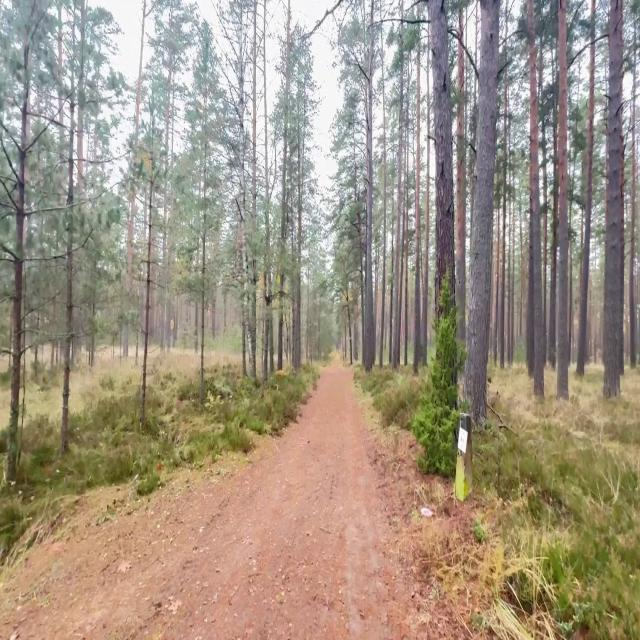trees: (412, 0, 464, 476), (0, 5, 41, 481), (464, 0, 499, 424), (221, 0, 255, 378), (427, 0, 455, 316), (603, 0, 623, 398), (124, 0, 146, 356), (577, 0, 595, 376), (527, 0, 544, 396), (361, 0, 375, 371), (557, 0, 569, 399), (61, 98, 74, 452), (278, 0, 290, 369), (263, 0, 274, 373), (414, 35, 425, 373), (141, 169, 154, 425), (393, 56, 403, 367), (456, 9, 465, 347), (163, 88, 174, 350), (159, 104, 169, 350), (549, 98, 558, 367), (200, 91, 207, 405), (629, 63, 636, 367), (568, 130, 577, 365), (353, 193, 365, 365), (423, 55, 430, 335), (288, 179, 298, 369), (542, 118, 550, 341), (77, 0, 85, 201), (381, 35, 387, 282), (500, 120, 506, 367), (88, 236, 99, 369), (527, 189, 534, 377), (389, 190, 396, 365), (252, 0, 257, 222), (343, 271, 353, 365), (404, 191, 408, 365), (298, 136, 301, 365), (306, 283, 310, 361)
